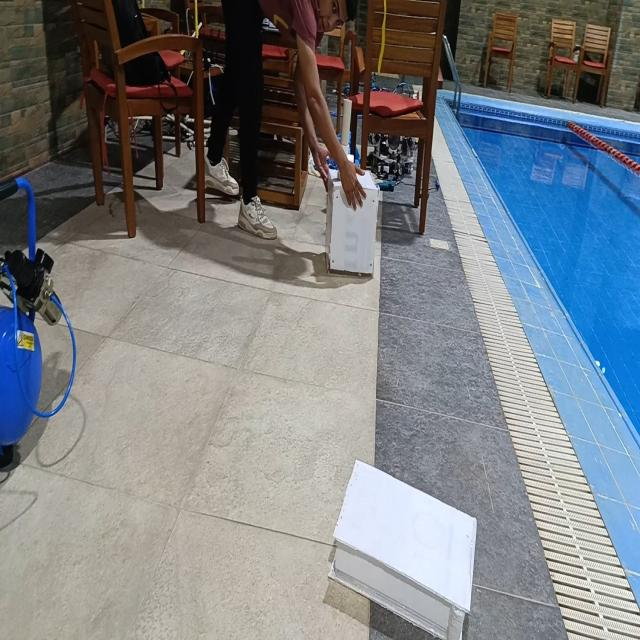Cube: (324, 163, 379, 276)
Cuboid: (329, 456, 477, 636)
